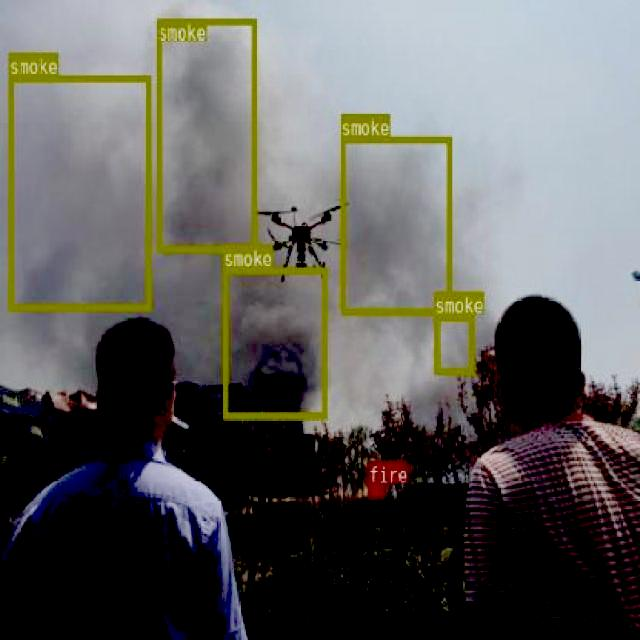fire: (368, 482, 384, 496)
smoke: (8, 74, 150, 310), (156, 18, 256, 252), (340, 135, 451, 314), (223, 267, 326, 418), (434, 314, 474, 374)
